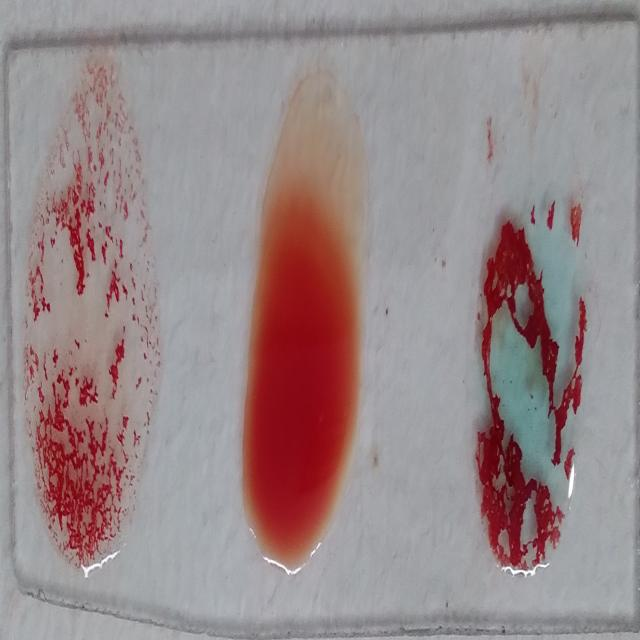A: (471, 141, 581, 579)
D: (21, 66, 159, 584)
